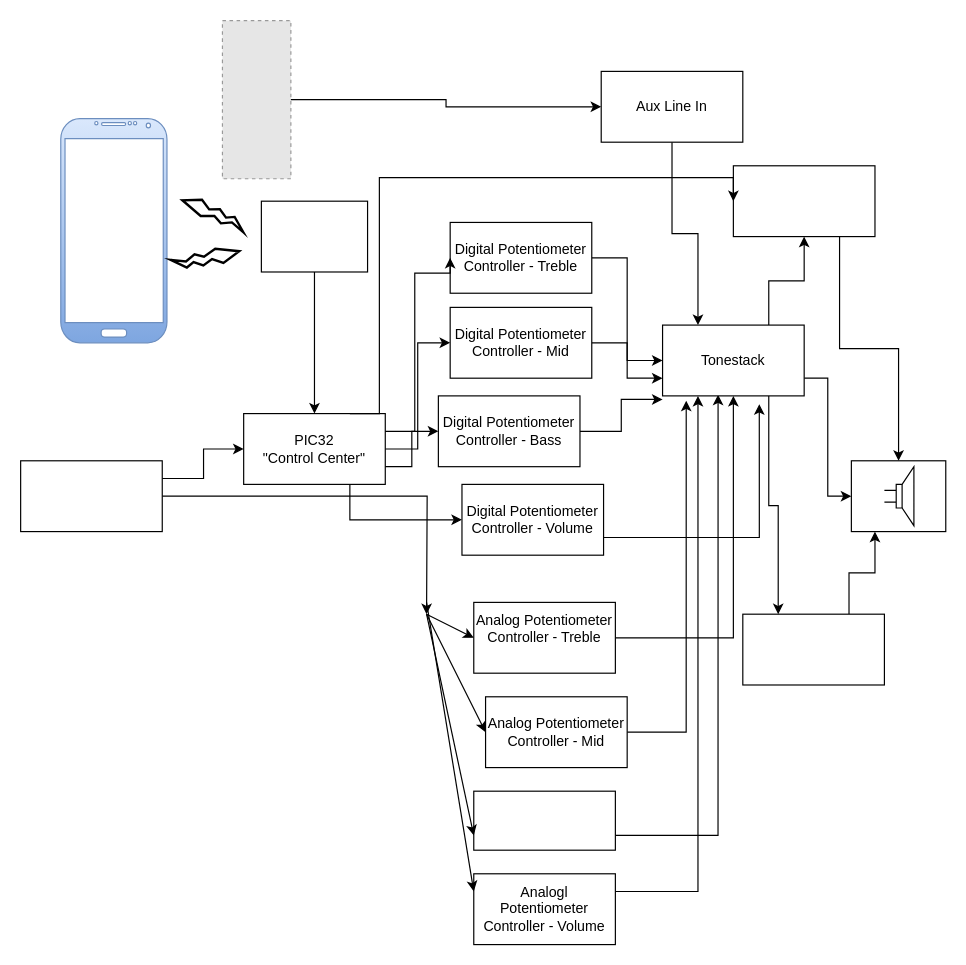
The diagram is 966 pixels wide and 965 high, and some of its shapes have lost their labels. Grey dashed boxes stand in for pictures. The shapes that lost their labels are listed below. From the top down, each one's box as (x1, y1, x2, y2) in pixels, then its label:
(732, 165, 875, 237): BTSE-16FX DSP Sound Effects Chip
(260, 200, 368, 272): HC-05 Bluetooth
(19, 460, 162, 532): Analog or Digital Switch
(742, 613, 884, 685): Distortion Circuit
(473, 790, 615, 850): Analog Potentiometer Controller - Bass
